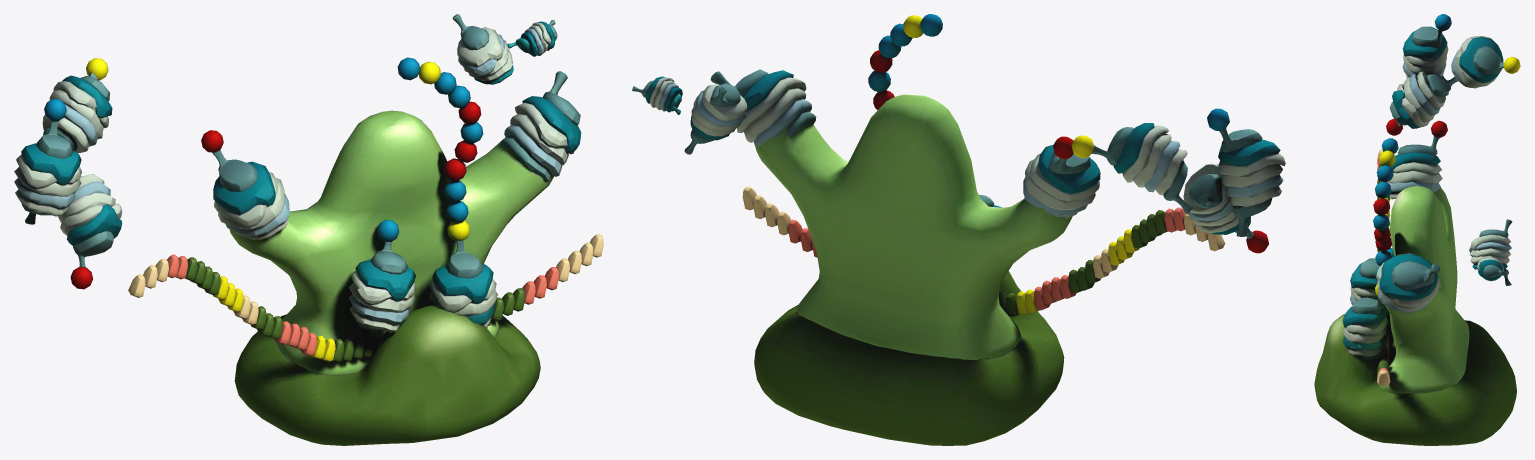
File: ribosome-transformed.glb
3 renders of one model, left to right at view 1: azimuth 30°, elevation 25°; view 2: azimuth 150°, elevation 25°; view 3: azimuth 270°, elevation 25°, orthographic. The views are drawn at different scales.
Visible parts, largest first — view 1: Object_6, Object_7, Object_8, Object_13, Object_12, Object_19, Object_23, Object_10, Object_9, Object_20, Object_16, Object_14 (+1 smaller); view 2: Object_6, Object_7, Object_8, Object_19, Object_16, Object_13, Object_12, Object_20, Object_14, Object_10, Object_15; view 3: Object_7, Object_6, Object_13, Object_20, Object_9, Object_12, Object_16, Object_19, Object_10, Object_14, Object_23, Object_8 (+4 smaller).
Part boxes in pixels (x1,y1,x2,y2): Object_6: (229,110,553,375); Object_7: (234,305,540,445); Object_8: (128,234,603,362); Object_13: (500,71,581,182); Object_12: (212,149,289,239); Object_19: (14,120,81,224); Object_23: (348,241,416,337); Object_10: (397,57,483,240); Object_9: (429,240,497,327); Object_20: (58,174,122,267); Object_16: (42,72,112,152); Object_14: (452,14,513,84); Object_6: (754,94,1072,359); Object_7: (754,271,1064,445); Object_8: (742,186,1225,316); Object_19: (1217,128,1285,236); Object_16: (1091,123,1192,213); Object_13: (710,69,816,146); Object_12: (1023,145,1100,218); Object_20: (1183,163,1253,239); Object_14: (684,83,747,154); Object_10: (868,14,942,109); Object_15: (632,76,682,114); Object_7: (1314,314,1516,445); Object_6: (1379,186,1469,393); Object_13: (1376,253,1440,313); Object_20: (1389,71,1458,128); Object_9: (1342,297,1388,360); Object_12: (1386,136,1442,199); Object_16: (1451,36,1503,88); Object_19: (1402,26,1448,95); Object_10: (1373,138,1398,296); Object_14: (1469,219,1512,285); Object_23: (1350,258,1390,328); Object_8: (1377,149,1390,386).
Size of the model in its own units: 0.9039 by 0.5426 by 0.367.
Materials: 18 (18 with a texture image).
